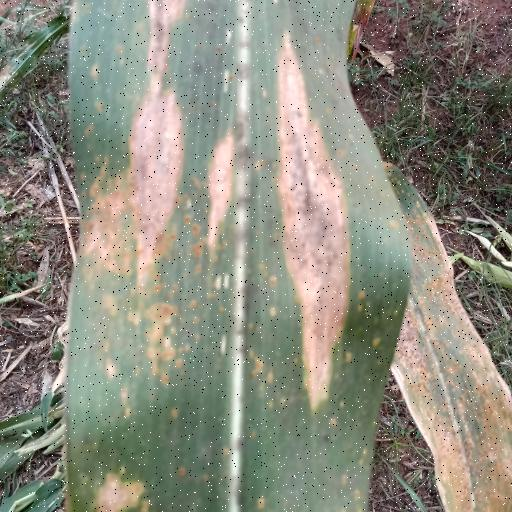Corn_Rust: (54, 0, 420, 512)
